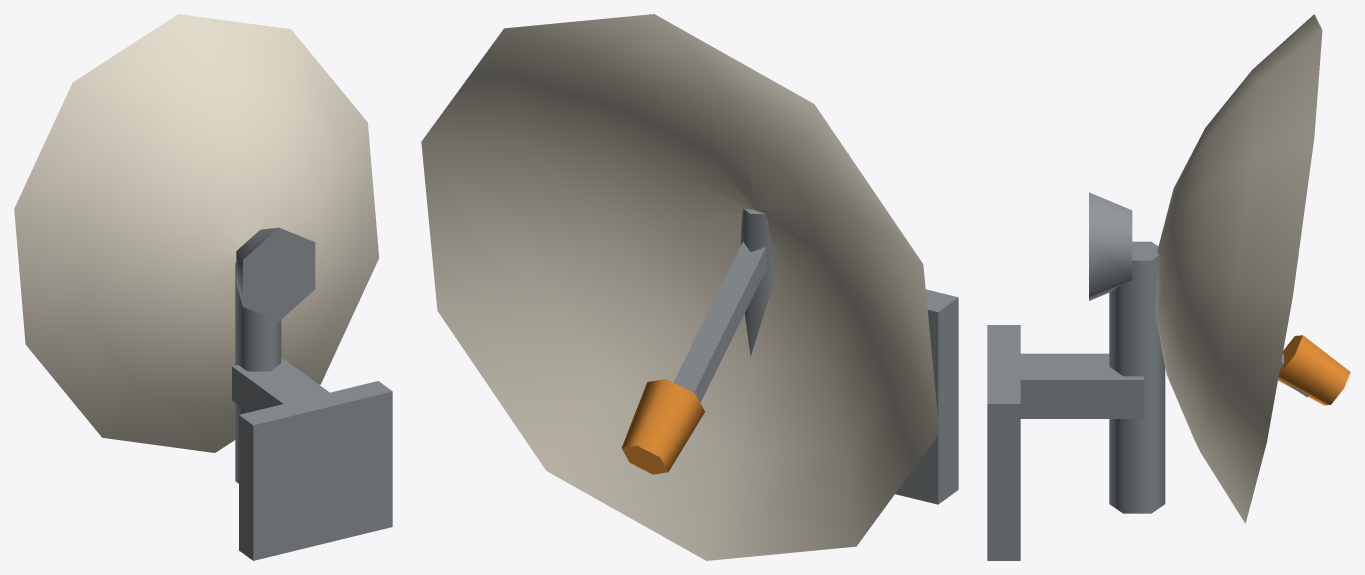
The model's file is antenne-parabole.glb.
3 renders of one model, left to right at view 1: azimuth 30°, elevation 25°; view 2: azimuth 150°, elevation 25°; view 3: azimuth 270°, elevation 25°, orthographic. The views are drawn at different scales.
Parts seen in each view (by area): view 1: reflecteur, platine, reflecteur-dos, mat, console; view 2: reflecteur, platine, bras-lnb, lnb, mat; view 3: reflecteur, mat, platine, console, reflecteur-dos, lnb.
Boxes of the visible parts, box(x1,y1,x2,y2) form: reflecteur: box(14, 14, 378, 452); platine: box(239, 381, 392, 560); reflecteur-dos: box(236, 227, 315, 321); mat: box(235, 262, 281, 483); console: box(232, 357, 329, 412); reflecteur: box(421, 14, 939, 560); platine: box(895, 289, 958, 504); bras-lnb: box(673, 241, 766, 402); lnb: box(621, 379, 704, 474); mat: box(740, 208, 773, 356); reflecteur: box(1155, 14, 1322, 523); mat: box(1109, 241, 1165, 513); platine: box(987, 325, 1020, 560); console: box(1020, 353, 1143, 418); reflecteur-dos: box(1089, 192, 1132, 300); lnb: box(1278, 335, 1350, 405).
Size of the model in its own units: 0.04 by 0.0458 by 0.0307.
